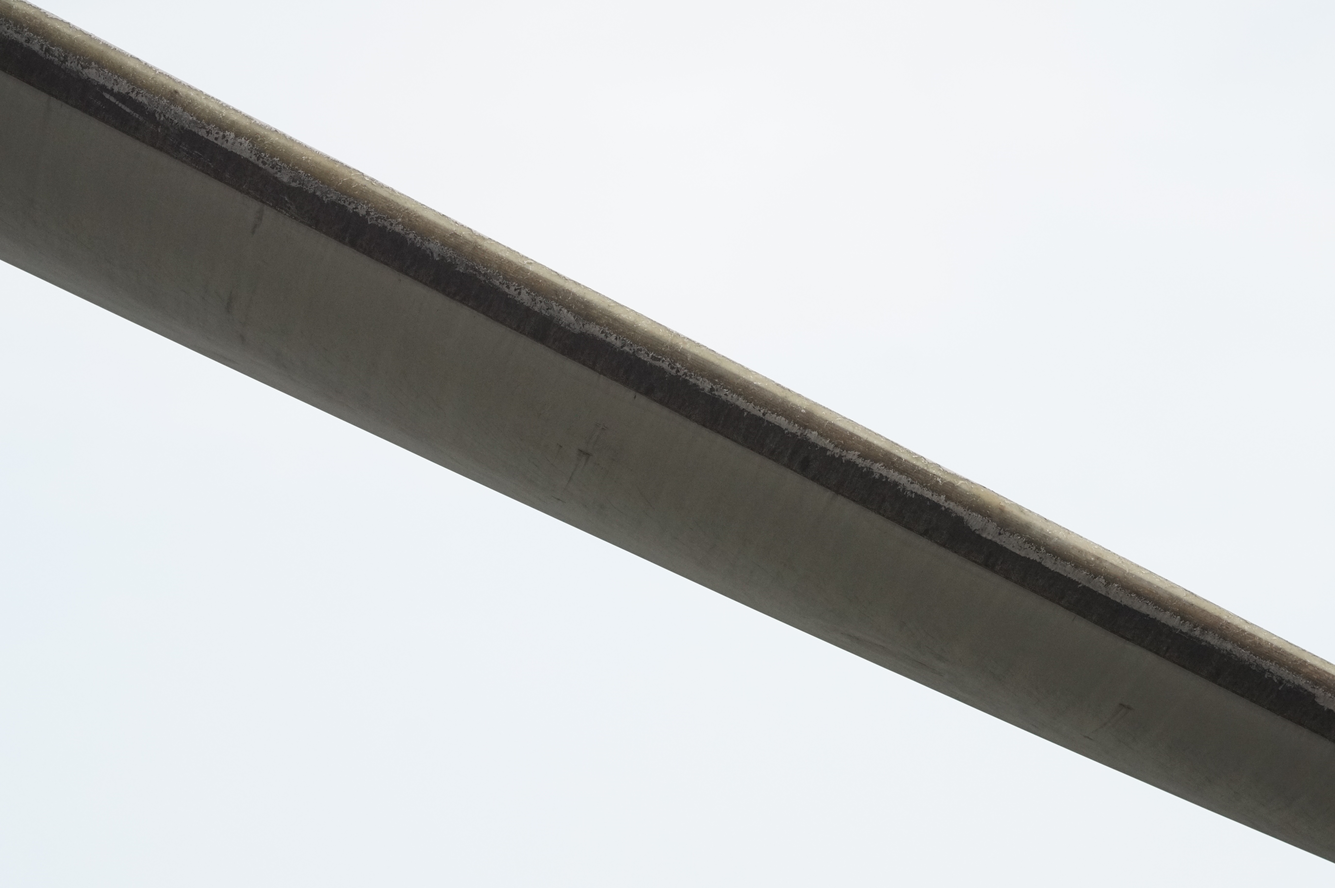Damage: (0, 0, 1335, 698)
